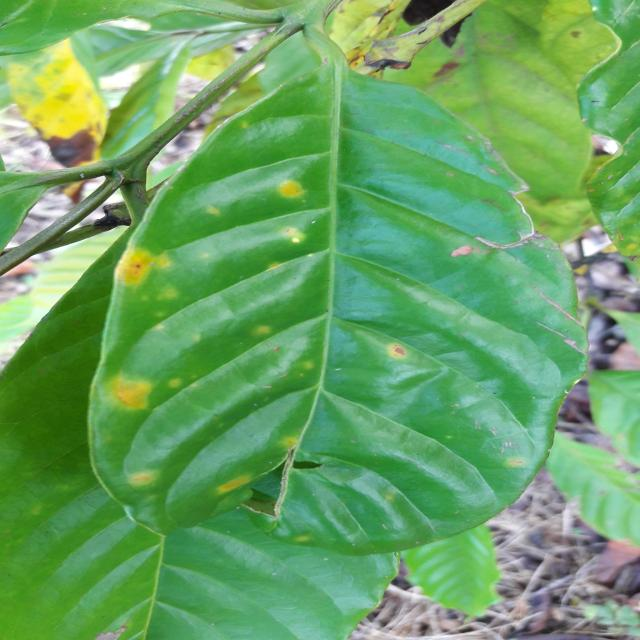Enfermedad-Roya: (87, 32, 588, 556)
